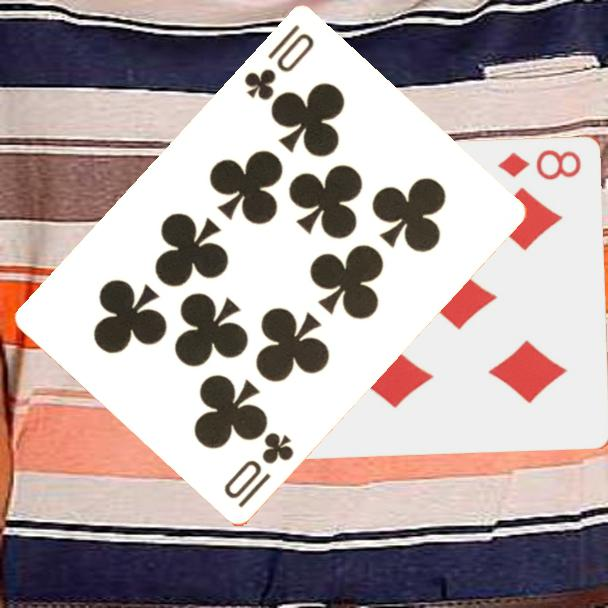c10: (220, 429, 297, 512), (240, 21, 317, 104)
d08: (494, 146, 585, 183)
